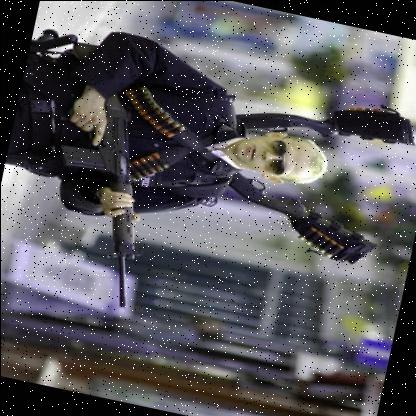rifle: (24, 77, 175, 311)
